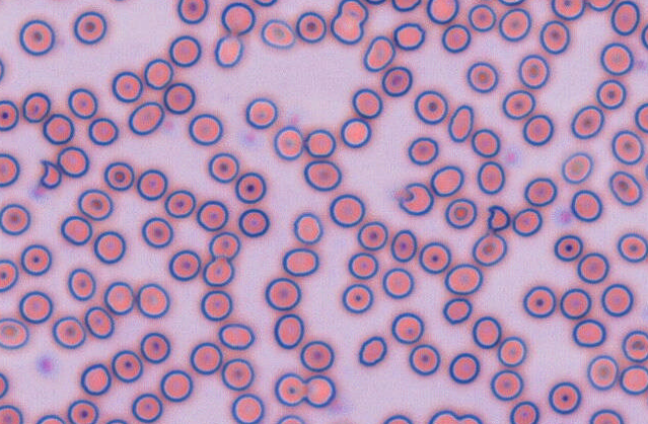PLT: (503, 149, 520, 169), (38, 355, 55, 374), (556, 207, 572, 226), (242, 129, 259, 146)
RBC: (19, 19, 55, 55), (608, 170, 643, 206), (444, 263, 483, 295), (413, 89, 448, 124), (329, 193, 365, 227), (128, 101, 164, 135), (471, 232, 507, 266), (264, 277, 301, 310), (303, 159, 341, 191), (570, 104, 604, 139), (362, 35, 395, 71), (136, 282, 169, 318), (611, 129, 644, 164), (220, 2, 255, 35), (77, 188, 113, 220), (586, 354, 618, 390), (93, 230, 126, 264), (52, 315, 85, 349), (498, 7, 531, 41), (73, 11, 107, 44), (522, 285, 556, 318), (600, 42, 634, 75), (188, 113, 223, 145), (273, 313, 304, 349), (189, 341, 222, 374), (418, 241, 451, 274), (160, 369, 193, 402), (19, 290, 52, 323), (168, 34, 201, 67), (548, 381, 581, 414), (600, 283, 633, 316), (274, 372, 306, 406), (430, 164, 464, 196), (299, 340, 334, 371), (518, 54, 549, 89), (282, 247, 319, 276), (330, 12, 363, 44), (304, 374, 336, 407), (168, 249, 201, 281), (221, 358, 254, 390), (111, 349, 143, 382), (561, 151, 593, 184), (570, 189, 602, 222), (391, 312, 424, 344), (103, 281, 134, 315), (539, 20, 570, 54), (610, 0, 640, 35), (273, 125, 303, 160), (260, 18, 295, 48), (447, 104, 474, 142), (234, 171, 266, 203), (111, 70, 143, 102), (200, 289, 232, 321), (163, 82, 195, 114), (408, 343, 440, 375), (141, 216, 173, 248), (448, 352, 480, 384), (559, 287, 591, 319), (196, 199, 228, 231), (245, 97, 277, 129), (466, 61, 498, 93), (56, 146, 89, 177), (490, 369, 523, 400), (522, 113, 553, 146), (218, 322, 254, 350), (42, 113, 74, 144), (136, 168, 167, 200), (207, 152, 239, 183), (382, 267, 414, 298), (80, 363, 111, 395), (444, 197, 476, 228), (577, 252, 609, 283), (20, 243, 51, 275), (67, 87, 98, 119), (295, 11, 326, 43), (471, 315, 501, 348), (231, 393, 264, 423), (293, 211, 323, 244), (84, 305, 114, 338), (502, 89, 535, 119), (476, 160, 505, 194), (572, 318, 606, 347), (523, 177, 557, 206), (340, 117, 371, 148), (351, 87, 382, 118), (60, 215, 92, 245), (0, 203, 30, 235), (341, 283, 373, 313), (131, 392, 163, 422), (140, 331, 170, 363), (214, 34, 243, 67), (67, 267, 95, 301), (143, 58, 173, 89), (357, 220, 388, 250), (381, 66, 412, 96), (0, 317, 29, 349), (202, 257, 234, 286), (208, 231, 240, 260), (164, 189, 196, 218), (304, 128, 336, 157), (617, 232, 647, 262), (441, 23, 471, 53), (596, 79, 626, 109), (497, 336, 526, 367), (407, 136, 438, 165), (238, 208, 269, 237), (103, 161, 134, 190), (358, 335, 387, 366), (393, 22, 425, 50), (390, 229, 417, 262), (512, 207, 542, 236), (471, 127, 500, 157), (347, 251, 378, 279), (22, 91, 50, 122), (619, 364, 647, 395), (621, 329, 647, 362), (88, 117, 118, 145), (467, 3, 496, 31), (442, 297, 472, 324), (553, 234, 583, 261), (67, 399, 99, 423), (176, 0, 208, 24), (426, 0, 458, 24), (338, 0, 367, 24), (509, 400, 539, 423), (551, 0, 585, 20), (0, 153, 20, 187), (0, 258, 18, 292), (0, 99, 19, 131), (589, 408, 624, 423), (0, 404, 23, 423), (428, 409, 459, 423), (634, 102, 647, 133), (585, 0, 615, 11), (391, 0, 421, 11), (382, 414, 413, 423), (35, 414, 65, 423), (276, 414, 305, 423), (457, 413, 482, 423), (0, 372, 8, 398), (253, 0, 277, 7), (641, 22, 647, 49), (498, 0, 525, 6), (105, 418, 127, 423), (366, 0, 386, 5), (0, 57, 4, 81), (644, 163, 648, 182), (107, 0, 131, 3)
Schistocyte: (397, 182, 437, 216), (484, 203, 511, 232), (38, 159, 62, 188)
